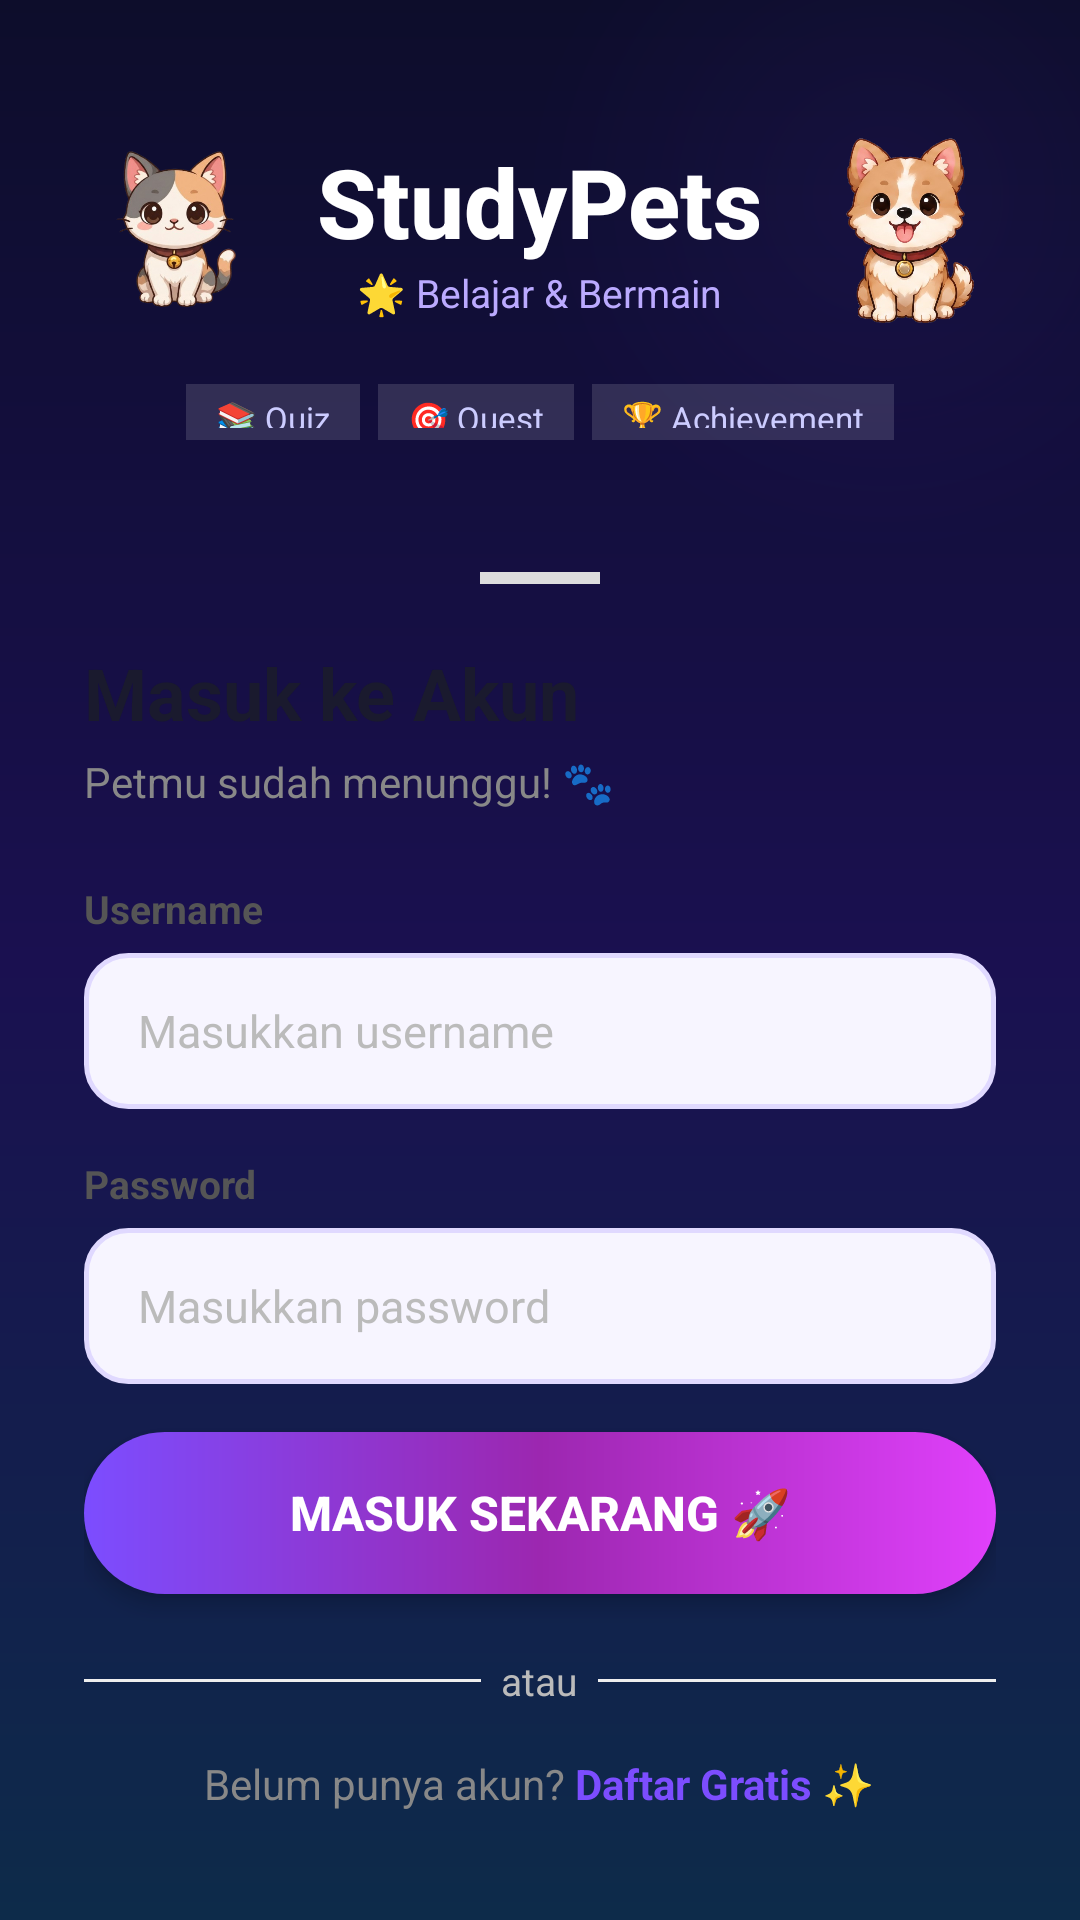

Icon bounding boxes for this 1080*1920 phone screenshot, format (x1, y1, x2, y2):
Cat: (119, 151, 236, 307)
Dog: (846, 138, 974, 323)
